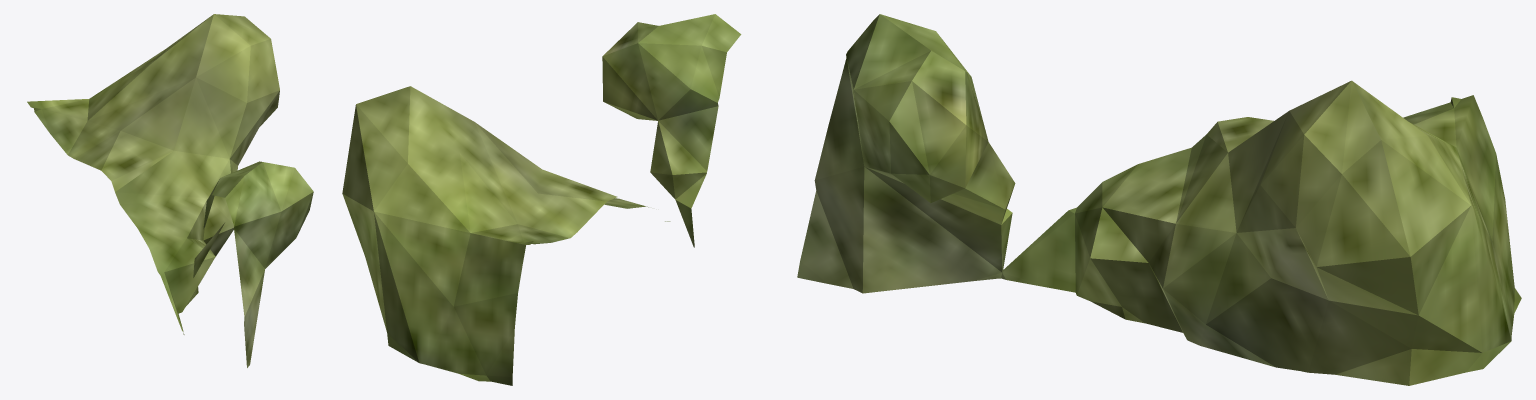
3 renders of one model, left to right at view 1: azimuth 30°, elevation 25°; view 2: azimuth 150°, elevation 25°; view 3: azimuth 270°, elevation 25°, orthographic. The views are drawn at different scales.
Size of the model in its own units: 0.7909 by 0.7602 by 1.63.
1 material, 1 textured.
